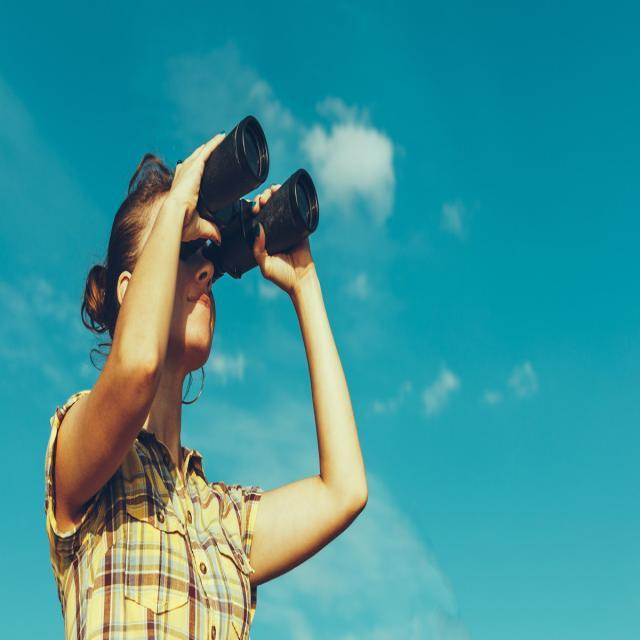Binocular: (177, 109, 335, 274)
